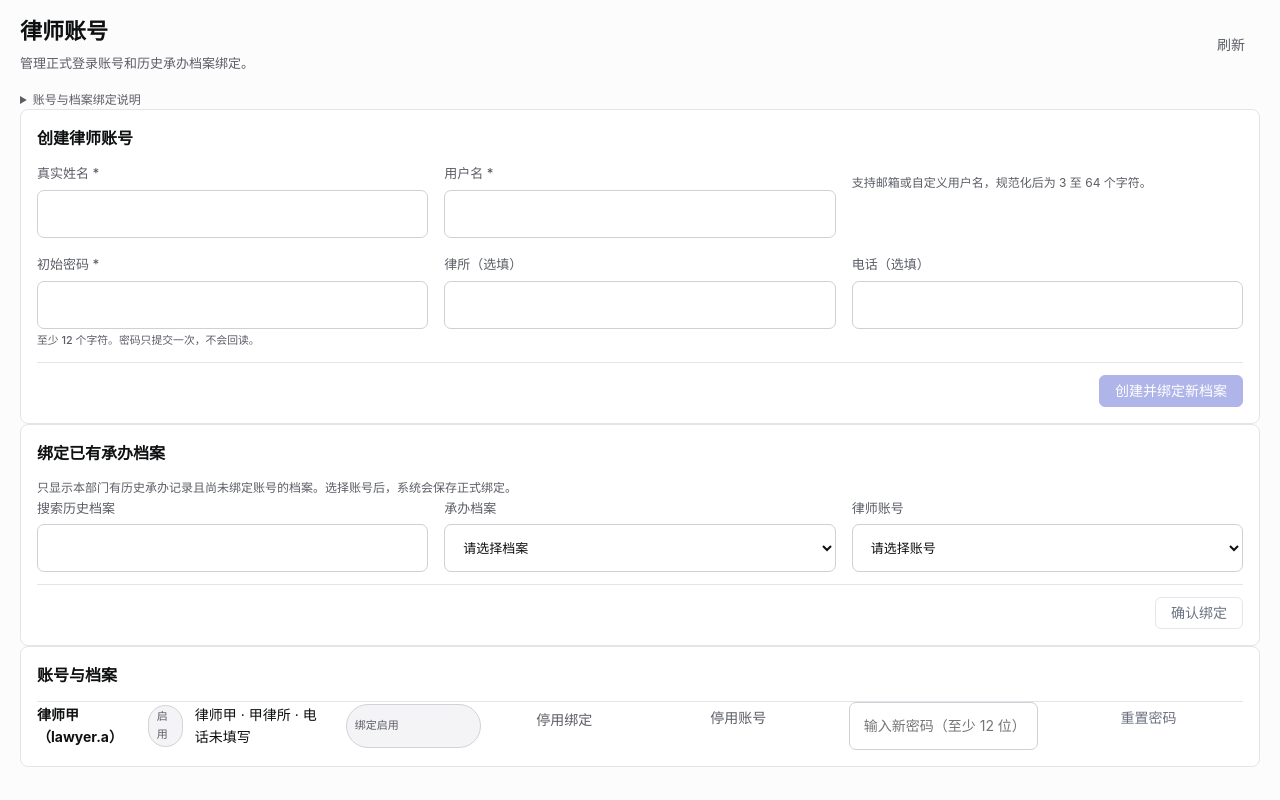
Test: LawyerAccountsPage › explains account and binding effects and creates an account without echoing its password
Type "律师丙" into the field labelled "真实姓名 *".
click(233, 214); type("律师丙")  # box x1=37 y1=190 x2=428 y2=238
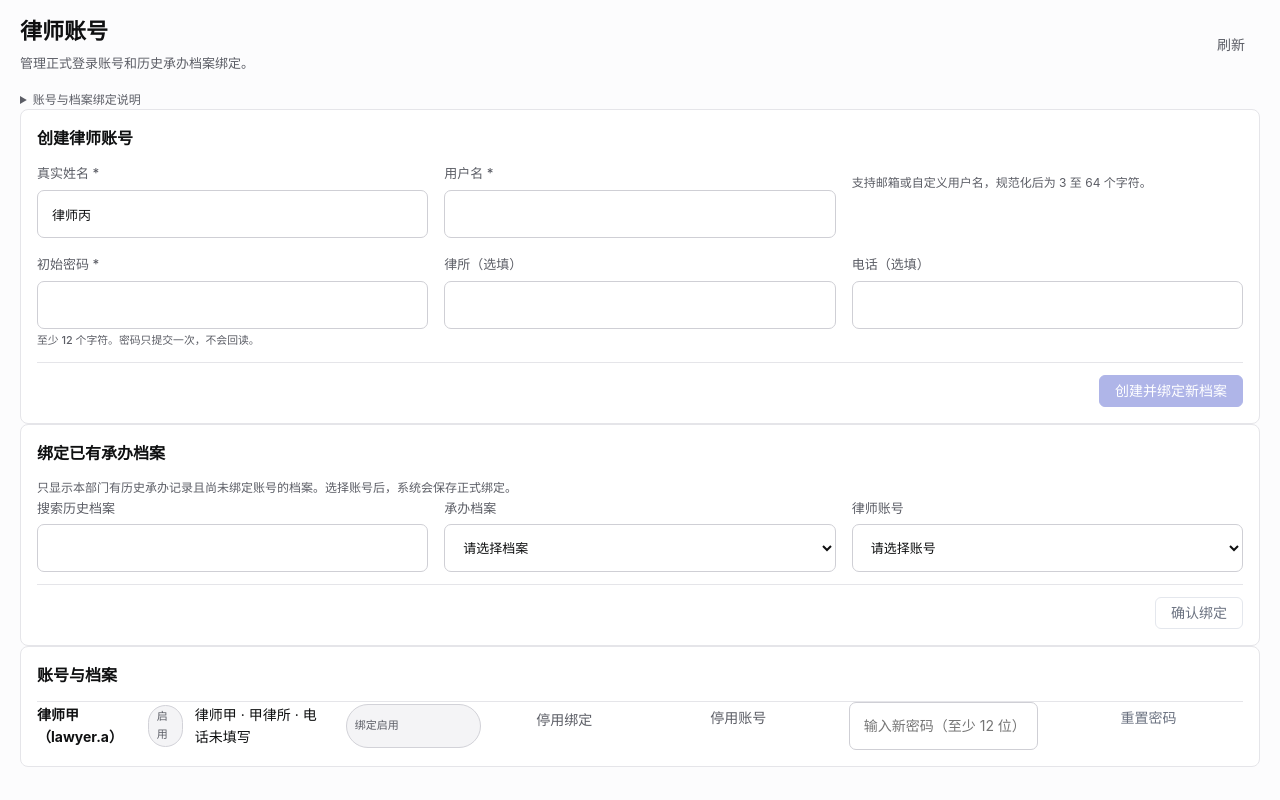
Type "lawyer.c" into the field labelled "用户名 *".
click(640, 214); type("lawyer.c")  # box x1=444 y1=190 x2=836 y2=238
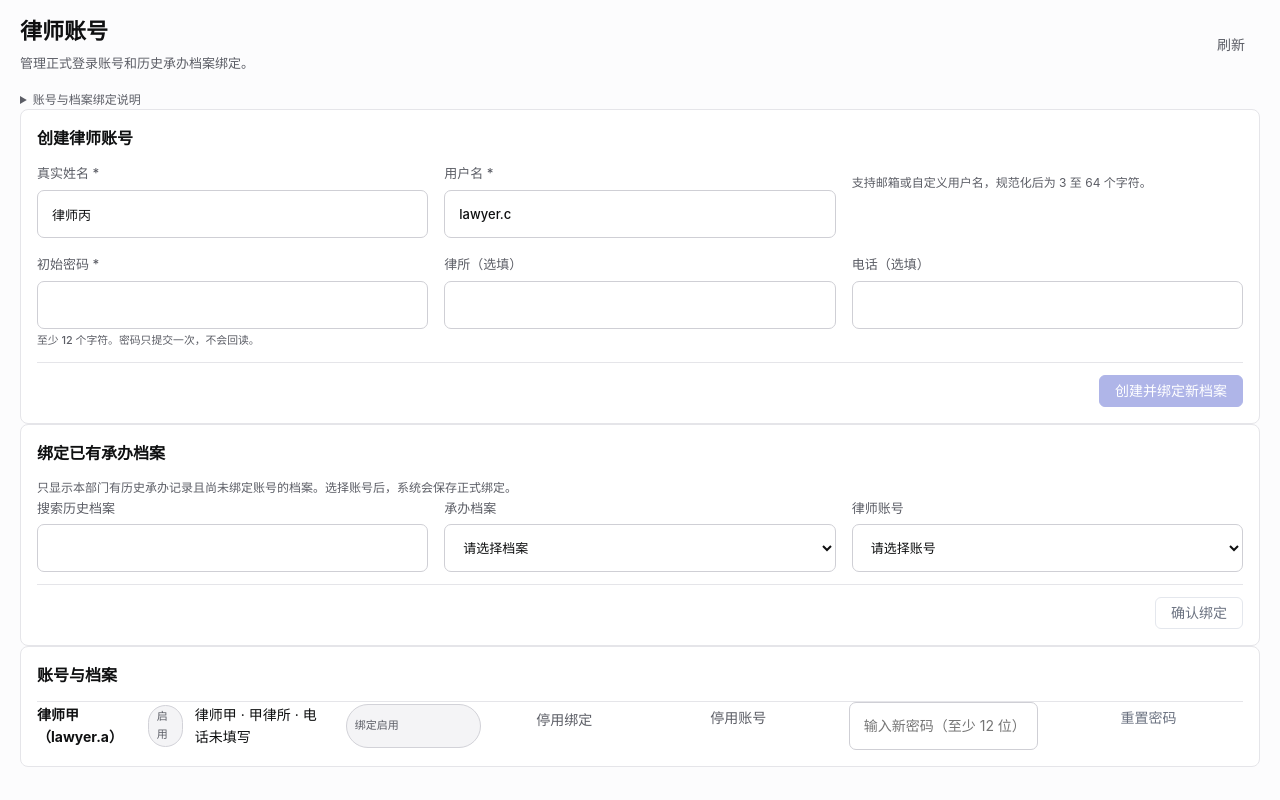
Type "correct horse battery staple" into the password field labelled "初始密码 * 至少 12 个字符。密码只提交一次，不会回读。".
click(233, 305); type("correct horse battery staple")  # box x1=37 y1=281 x2=428 y2=329
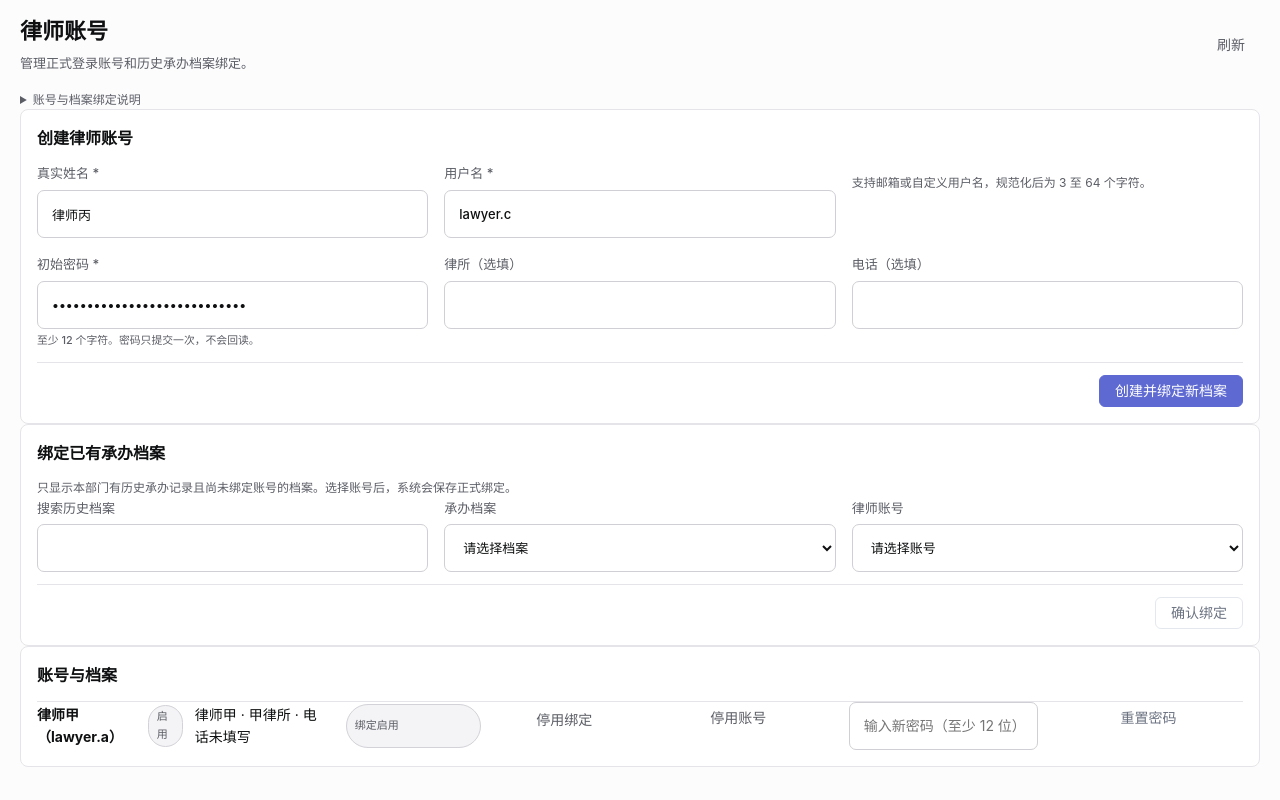
Click the button "创建并绑定新档案".
click(1171, 391)  # box x1=1099 y1=375 x2=1243 y2=407
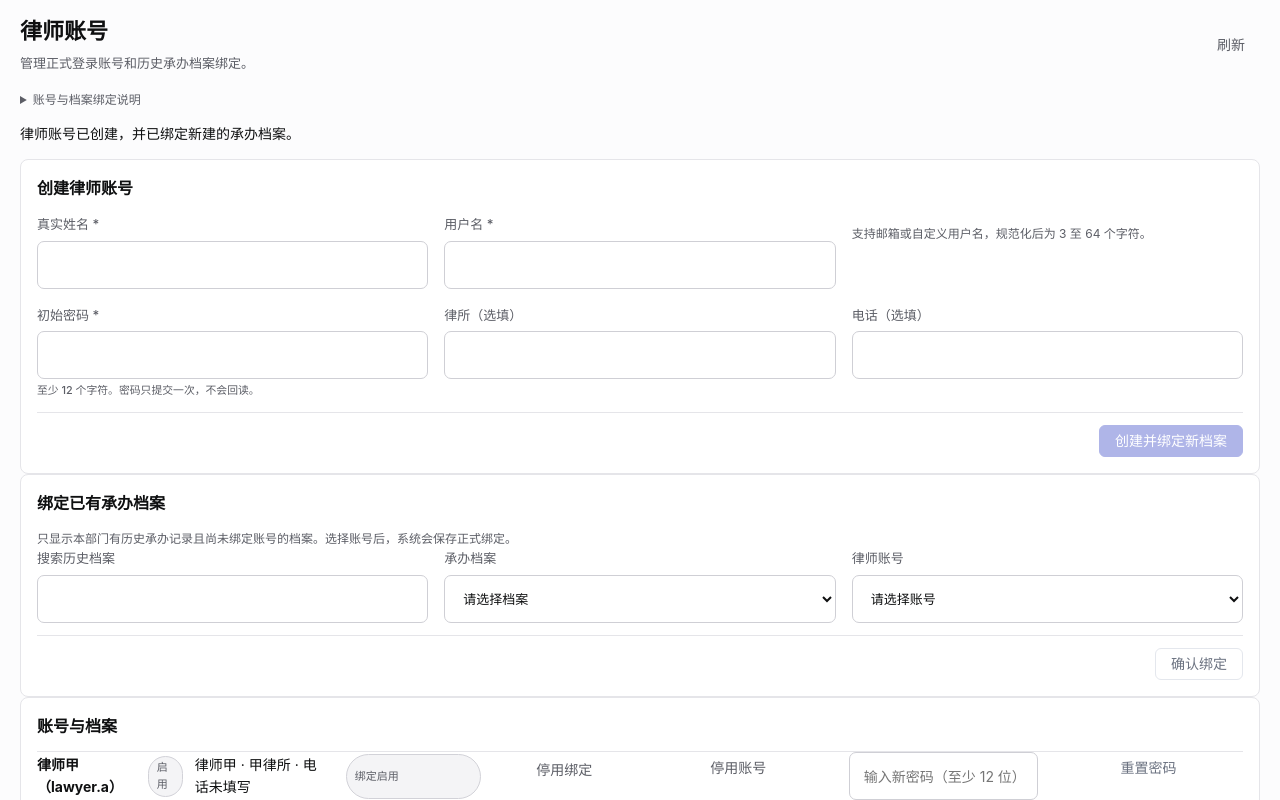
Check: the text "账号已创建" is shown, box x1=20 y1=125 x2=300 y2=142
